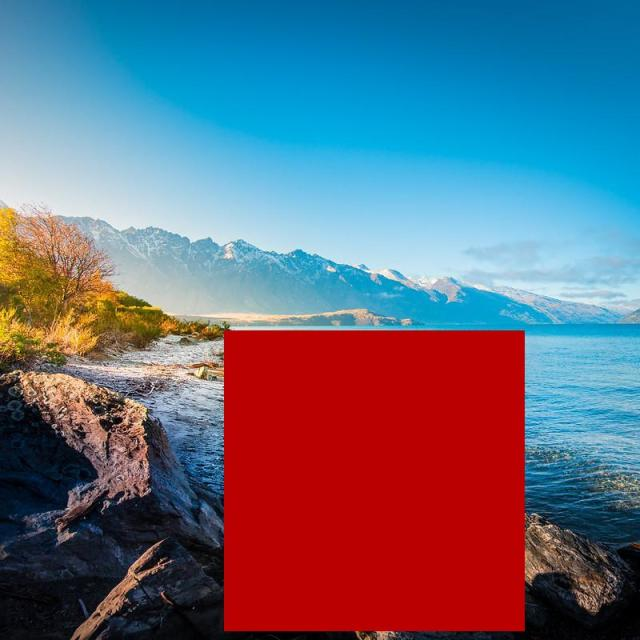RedSquare: (216, 325, 536, 639)
